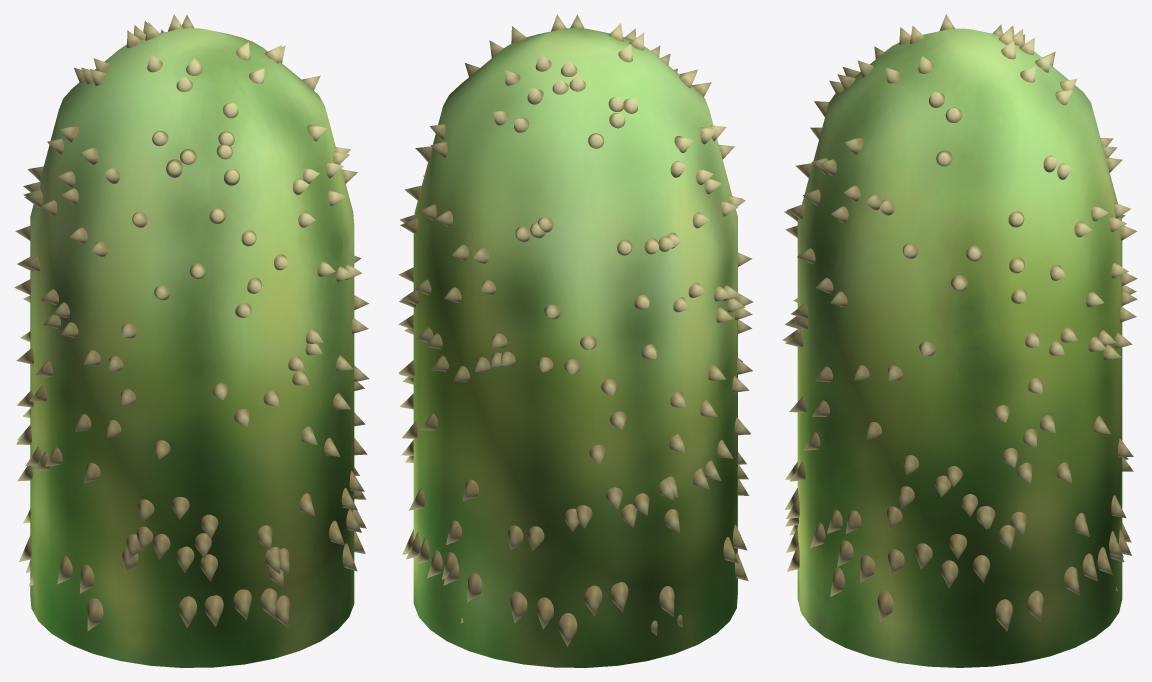
File: cactushand.fbx
3 renders of one model, left to right at view 1: azimuth 30°, elevation 25°; view 2: azimuth 150°, elevation 25°; view 3: azimuth 270°, elevation 25°, orthographic.
Visible parts, largest first — view 1: cactushand, Cylinder.002; view 2: cactushand, Cylinder.002; view 3: cactushand, Cylinder.002.
Boxes of the visible parts, x1,y1,x2,y2 form: cactushand: (30, 28, 354, 667); Cylinder.002: (14, 14, 369, 630); cactushand: (413, 28, 737, 667); Cylinder.002: (398, 14, 753, 646); cactushand: (797, 28, 1122, 667); Cylinder.002: (782, 14, 1137, 631).
Bounding box in the file's own units: 219 × 383 × 219.
